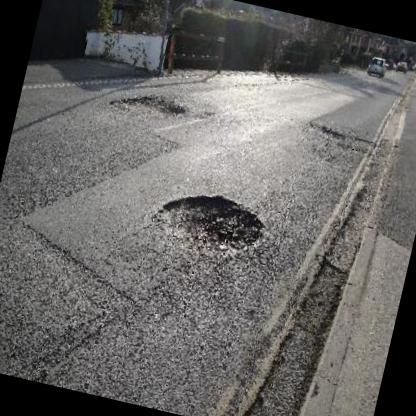pothole: (146, 178, 273, 266), (107, 83, 188, 125)
